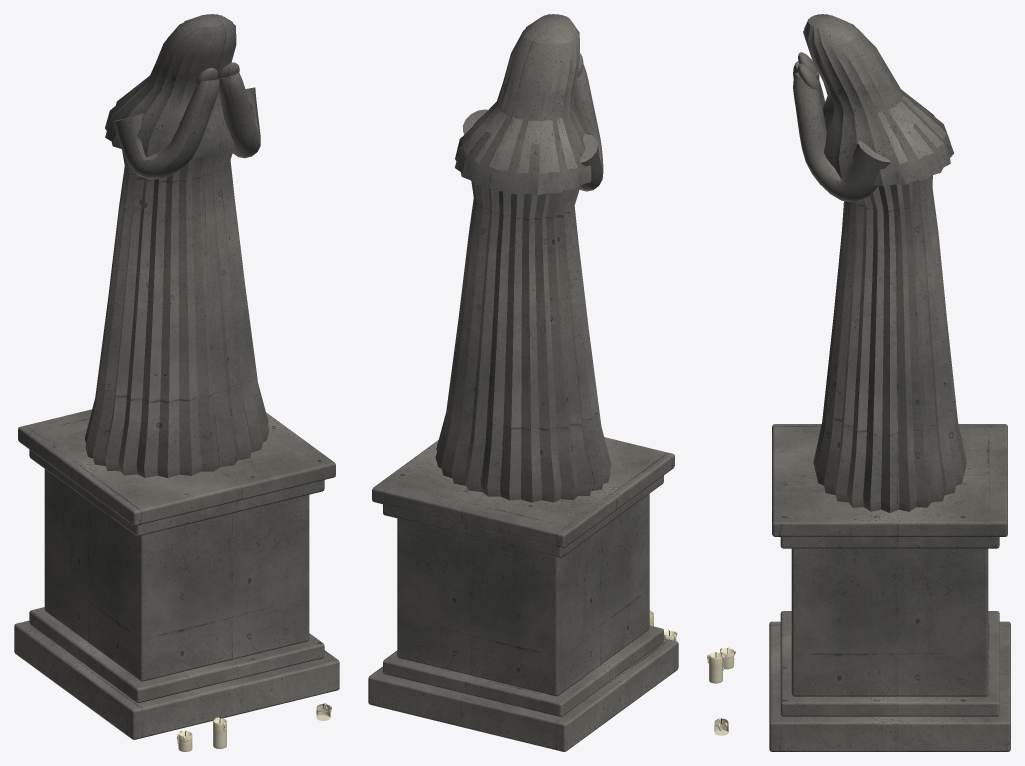
Rendered from Statue_WeepingMaiden.gltf.
The picture shows the model from 3 angles, left to right: view 1: azimuth 30°, elevation 25°; view 2: azimuth 150°, elevation 25°; view 3: azimuth 270°, elevation 25°; orthographic projection. The views are drawn at different scales.
Visible parts, largest first — view 1: Statue_WeepingMaiden_Pedestal, Statue_WeepingMaiden_Figure, Statue_WeepingMaiden_Candles; view 2: Statue_WeepingMaiden_Pedestal, Statue_WeepingMaiden_Figure; view 3: Statue_WeepingMaiden_Pedestal, Statue_WeepingMaiden_Figure, Statue_WeepingMaiden_Candles.
Part boxes in pixels (box(x1,y1,x2,y2)): Statue_WeepingMaiden_Pedestal: box(14, 409, 339, 739); Statue_WeepingMaiden_Figure: box(84, 14, 269, 477); Statue_WeepingMaiden_Candles: box(177, 703, 331, 751); Statue_WeepingMaiden_Pedestal: box(368, 437, 678, 751); Statue_WeepingMaiden_Figure: box(435, 14, 611, 502); Statue_WeepingMaiden_Pedestal: box(769, 424, 1010, 751); Statue_WeepingMaiden_Figure: box(793, 14, 966, 512); Statue_WeepingMaiden_Candles: box(707, 647, 735, 735).
Size of what is drawn, in the model's own units: 0.86 by 2.68 by 1.08.
3 materials, 2 textured.
